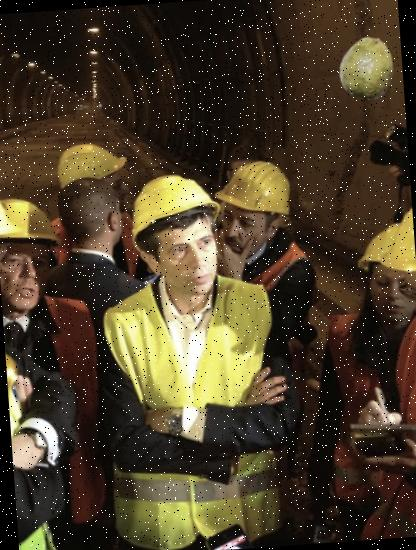Guava: (334, 34, 401, 100)
